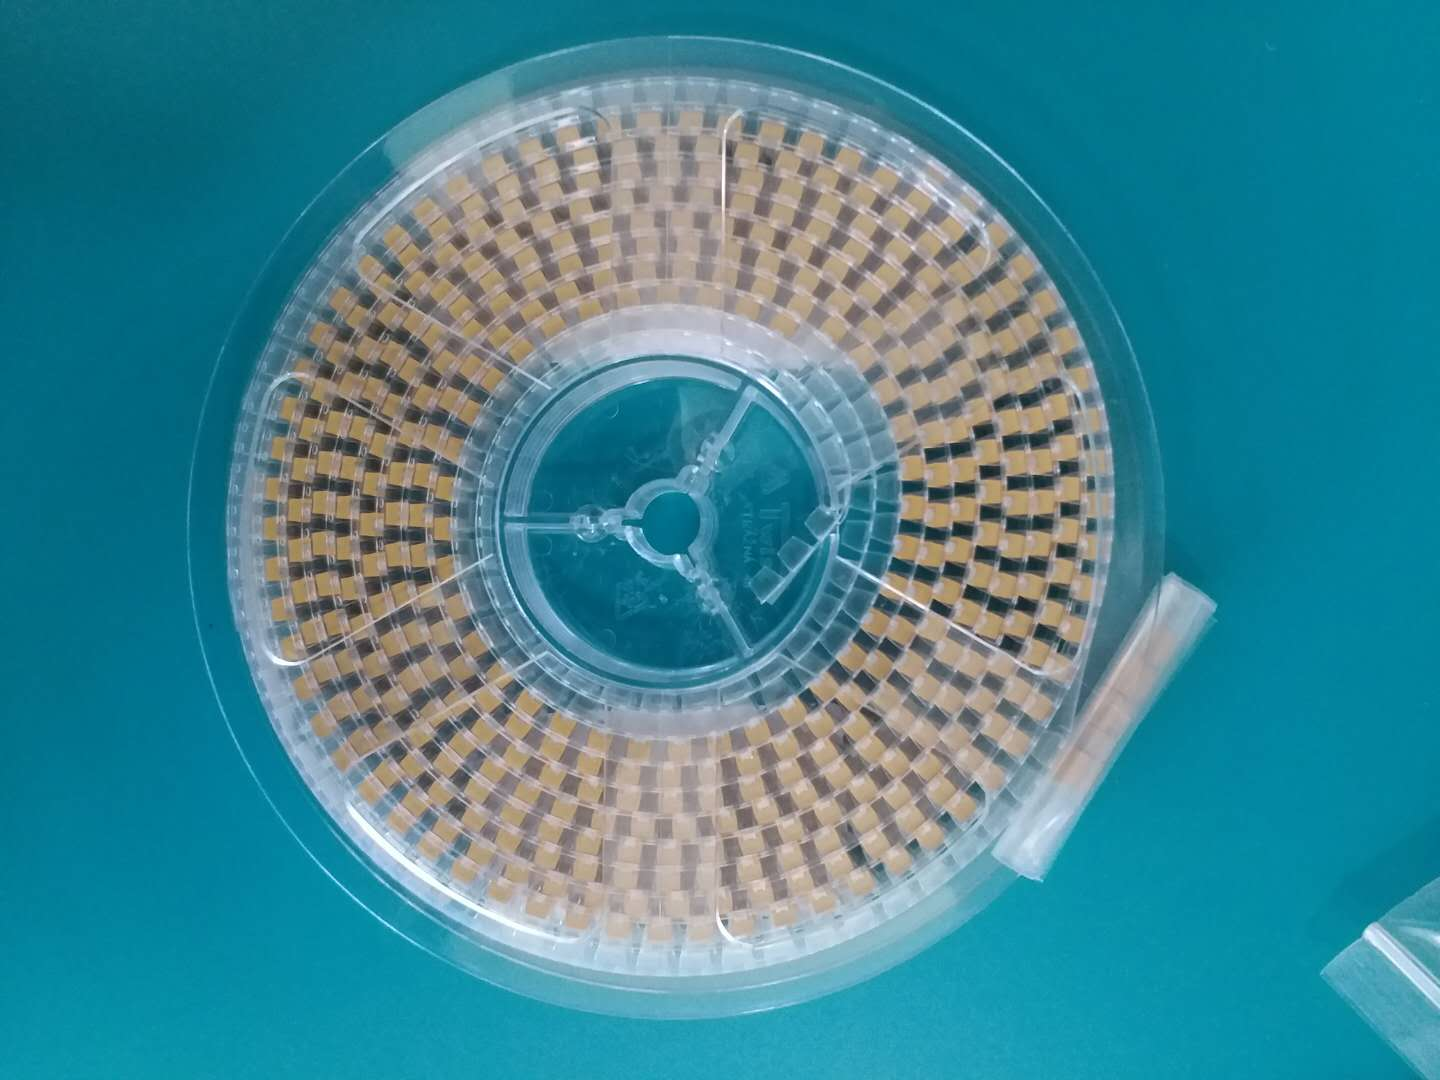G0: (698, 841, 722, 864), (539, 767, 567, 786), (854, 874, 878, 896), (1054, 563, 1079, 584), (579, 756, 605, 776), (1008, 491, 1028, 517), (577, 783, 605, 801), (979, 614, 1000, 638), (491, 294, 516, 314), (628, 897, 649, 922), (1087, 495, 1108, 520), (736, 140, 762, 159), (864, 737, 886, 760), (1014, 371, 1036, 393), (892, 622, 915, 643), (898, 538, 921, 559), (871, 655, 892, 677), (830, 763, 852, 786), (866, 613, 889, 634), (371, 434, 392, 457), (659, 765, 681, 786), (508, 716, 532, 736), (450, 298, 474, 319), (743, 834, 766, 854), (927, 466, 952, 486), (842, 648, 867, 667), (522, 301, 547, 320), (342, 455, 361, 481), (849, 717, 871, 739), (739, 863, 761, 885), (1031, 643, 1051, 666), (543, 739, 566, 759), (386, 465, 408, 486), (668, 898, 691, 919), (701, 763, 723, 784), (734, 916, 754, 938), (791, 876, 814, 896), (1022, 576, 1042, 599), (615, 161, 642, 178), (780, 846, 804, 866), (459, 358, 484, 377), (495, 231, 520, 250), (350, 417, 369, 442), (620, 839, 638, 864), (689, 923, 714, 942), (956, 458, 974, 483), (1058, 434, 1076, 459), (554, 282, 581, 299), (344, 373, 361, 399), (921, 759, 942, 779), (1009, 453, 1030, 474), (812, 716, 833, 736), (777, 739, 798, 759), (432, 479, 454, 499), (328, 287, 349, 307), (423, 327, 443, 348), (619, 790, 639, 811), (981, 767, 1001, 788), (923, 543, 943, 565), (979, 442, 999, 464), (669, 209, 691, 229), (1045, 605, 1068, 624), (793, 242, 815, 261), (700, 790, 722, 809), (889, 852, 912, 871), (964, 749, 986, 768), (886, 756, 909, 774), (506, 749, 530, 767), (386, 343, 401, 370), (825, 857, 849, 875), (905, 495, 922, 520), (483, 158, 508, 175), (816, 743, 837, 763), (412, 466, 432, 487), (324, 615, 345, 635), (528, 898, 549, 919), (615, 869, 635, 889), (906, 459, 927, 479), (816, 680, 838, 699), (458, 403, 480, 422), (700, 872, 721, 892), (956, 602, 977, 622), (935, 328, 957, 347), (980, 523, 998, 546), (553, 717, 576, 735), (434, 354, 457, 372), (650, 923, 672, 942), (816, 895, 839, 913), (951, 539, 969, 562), (1033, 452, 1051, 474), (930, 505, 948, 528), (553, 803, 577, 820), (483, 763, 507, 781), (481, 275, 505, 292), (1005, 534, 1022, 558), (692, 189, 715, 206), (697, 290, 722, 306), (1019, 318, 1040, 337), (841, 689, 861, 709), (475, 723, 495, 742), (364, 656, 384, 675), (619, 766, 639, 785), (677, 820, 697, 839), (776, 909, 796, 928), (937, 581, 957, 600), (983, 483, 1002, 504), (675, 261, 694, 281), (350, 309, 370, 329), (785, 704, 806, 723), (748, 724, 770, 742), (519, 695, 541, 714), (381, 636, 403, 655), (661, 795, 683, 813), (1087, 453, 1106, 474), (785, 760, 802, 783), (737, 756, 760, 773), (437, 247, 459, 264), (327, 412, 344, 434), (518, 787, 542, 803), (497, 834, 520, 850), (361, 512, 376, 535), (972, 563, 988, 587), (519, 141, 543, 157), (904, 655, 923, 674), (1000, 282, 1019, 302), (977, 297, 997, 317), (880, 268, 899, 287), (671, 744, 691, 763), (633, 818, 652, 837), (659, 846, 678, 866), (713, 895, 732, 914), (1025, 410, 1044, 429), (679, 238, 698, 258), (439, 389, 458, 408), (797, 785, 815, 805), (491, 669, 511, 687), (401, 673, 422, 691), (376, 767, 397, 785), (544, 880, 565, 898), (1030, 535, 1048, 556), (700, 163, 725, 178), (903, 808, 920, 829), (893, 416, 910, 438), (581, 301, 602, 318), (452, 739, 474, 756), (351, 735, 373, 752), (370, 596, 387, 617), (293, 582, 310, 604), (594, 810, 611, 832), (997, 575, 1014, 597), (503, 808, 526, 824), (464, 255, 486, 271), (477, 694, 500, 710), (1054, 658, 1070, 681), (660, 161, 683, 177), (461, 322, 488, 336), (415, 383, 429, 410), (490, 884, 514, 898), (447, 177, 471, 192), (407, 275, 431, 289), (937, 783, 955, 802), (858, 810, 876, 829), (922, 237, 941, 255), (820, 169, 839, 187), (484, 371, 503, 389), (391, 585, 410, 604), (609, 917, 628, 935), (403, 248, 422, 267), (951, 265, 972, 282), (525, 275, 545, 292), (466, 638, 486, 655), (407, 798, 427, 815), (920, 678, 937, 699), (511, 341, 532, 358), (544, 318, 566, 334), (312, 380, 328, 402), (948, 729, 969, 745), (1011, 616, 1033, 632), (1039, 492, 1054, 514), (711, 216, 732, 231), (578, 839, 603, 853), (825, 262, 848, 277), (1062, 522, 1077, 545), (600, 116, 622, 130), (634, 264, 657, 279), (833, 297, 852, 315), (788, 822, 806, 841), (357, 340, 375, 358), (405, 627, 423, 646), (337, 653, 355, 672), (999, 335, 1017, 353), (924, 828, 941, 847), (818, 833, 837, 850), (764, 120, 781, 140), (382, 303, 399, 322), (431, 221, 450, 238), (384, 396, 401, 415), (438, 757, 457, 774), (437, 559, 454, 579), (867, 837, 884, 857), (972, 403, 989, 422), (956, 500, 973, 520), (744, 169, 763, 186), (638, 239, 658, 256), (556, 127, 582, 140), (403, 357, 415, 383), (588, 734, 609, 750), (403, 421, 418, 441), (426, 427, 442, 447), (657, 874, 677, 889), (717, 816, 737, 832), (1064, 478, 1077, 501), (561, 258, 583, 272), (516, 251, 537, 265), (337, 496, 351, 517), (388, 545, 403, 566), (410, 506, 425, 528), (413, 546, 427, 567), (715, 267, 737, 281), (660, 287, 681, 302), (611, 191, 633, 205), (539, 186, 564, 199), (1015, 260, 1032, 278), (945, 222, 963, 239), (927, 427, 945, 445), (329, 344, 346, 362), (412, 729, 430, 746), (423, 661, 440, 680), (297, 361, 311, 383), (304, 420, 317, 442), (588, 892, 605, 910), (756, 891, 773, 909), (945, 691, 962, 709), (917, 348, 934, 366), (491, 324, 508, 343), (925, 622, 945, 638), (922, 271, 941, 287), (847, 244, 866, 260), (452, 663, 472, 678), (403, 759, 422, 775), (430, 627, 449, 643), (302, 624, 317, 643), (283, 400, 299, 420), (996, 656, 1011, 675), (857, 351, 876, 366), (698, 140, 718, 155), (633, 212, 652, 228), (810, 223, 830, 238), (753, 228, 773, 243), (471, 847, 491, 862), (289, 542, 304, 563), (568, 912, 588, 927), (1034, 699, 1049, 719), (448, 438, 459, 464), (1067, 622, 1084, 639), (956, 800, 973, 817), (1058, 334, 1075, 351), (1037, 296, 1054, 313), (891, 211, 908, 228), (842, 147, 859, 164), (746, 782, 763, 799), (354, 691, 371, 708), (1011, 735, 1028, 752), (890, 787, 906, 805), (937, 381, 952, 399), (909, 294, 927, 310), (891, 243, 909, 259), (890, 351, 906, 369), (449, 600, 465, 618), (361, 475, 376, 493), (348, 619, 366, 635), (857, 781, 872, 800), (542, 826, 561, 841), (431, 787, 450, 802), (950, 422, 965, 441), (680, 112, 700, 127), (367, 377, 379, 402), (920, 726, 932, 749), (717, 117, 739, 129), (575, 150, 598, 162), (534, 163, 559, 175), (578, 172, 601, 185), (732, 194, 753, 208), (540, 851, 560, 864), (1053, 397, 1067, 417), (615, 141, 635, 154), (993, 376, 1009, 393), (827, 323, 844, 339), (822, 197, 839, 213), (386, 228, 401, 245), (315, 665, 331, 682), (317, 577, 333, 594), (638, 113, 662, 125), (469, 784, 488, 799), (438, 825, 456, 839), (949, 299, 963, 319), (657, 136, 676, 150), (651, 189, 670, 203), (409, 311, 421, 334), (465, 815, 485, 827), (471, 222, 491, 235), (315, 535, 328, 556), (438, 520, 450, 540), (619, 290, 639, 303), (760, 805, 776, 821), (332, 702, 348, 718), (986, 722, 1003, 736), (974, 692, 991, 707), (882, 687, 897, 704), (386, 697, 403, 711), (274, 602, 289, 619), (896, 712, 910, 729), (1013, 685, 1027, 702), (420, 585, 433, 604), (435, 280, 447, 302), (861, 287, 880, 299), (313, 493, 325, 513), (344, 581, 356, 600), (969, 659, 985, 674), (878, 383, 892, 399), (763, 256, 779, 271), (977, 334, 989, 354), (858, 189, 875, 203), (801, 273, 818, 287), (776, 208, 793, 221), (554, 235, 571, 248), (313, 328, 330, 341), (293, 459, 304, 480), (268, 562, 281, 579), (268, 482, 281, 499), (910, 587, 927, 600), (1039, 358, 1057, 371), (776, 319, 794, 331), (510, 868, 528, 880), (266, 520, 279, 538), (738, 299, 756, 312), (497, 180, 522, 189), (290, 500, 300, 522), (594, 272, 613, 284), (388, 505, 399, 524), (297, 681, 311, 697), (1003, 414, 1017, 430), (912, 196, 929, 209), (273, 441, 286, 458), (914, 386, 925, 404), (339, 540, 350, 558), (365, 557, 376, 575), (823, 810, 838, 824), (1075, 371, 1089, 386), (725, 245, 739, 259), (378, 276, 392, 289), (892, 577, 908, 590), (859, 220, 875, 233), (715, 739, 731, 751), (456, 867, 472, 879), (465, 199, 481, 211), (376, 726, 389, 742), (316, 719, 329, 735), (573, 205, 592, 216), (1089, 411, 1099, 430), (319, 452, 328, 473), (759, 282, 776, 294), (1082, 579, 1092, 597), (782, 185, 801, 195), (363, 785, 376, 799), (794, 301, 811, 311), (632, 746, 649, 757), (592, 223, 609, 234), (363, 260, 376, 272), (945, 649, 959, 660), (891, 313, 906, 324), (782, 158, 801, 167), (865, 323, 881, 334), (285, 641, 295, 655), (1089, 540, 1096, 557), (806, 140, 821, 149), (537, 218, 552, 227), (418, 206, 433, 216), (423, 707, 434, 718), (993, 231, 1003, 244), (962, 366, 972, 379), (601, 248, 613, 259), (338, 754, 348, 767), (880, 174, 896, 182), (432, 717, 446, 726), (507, 203, 516, 216), (450, 707, 468, 712), (393, 819, 405, 828), (577, 870, 593, 876), (449, 695, 459, 702), (973, 253, 983, 260)
